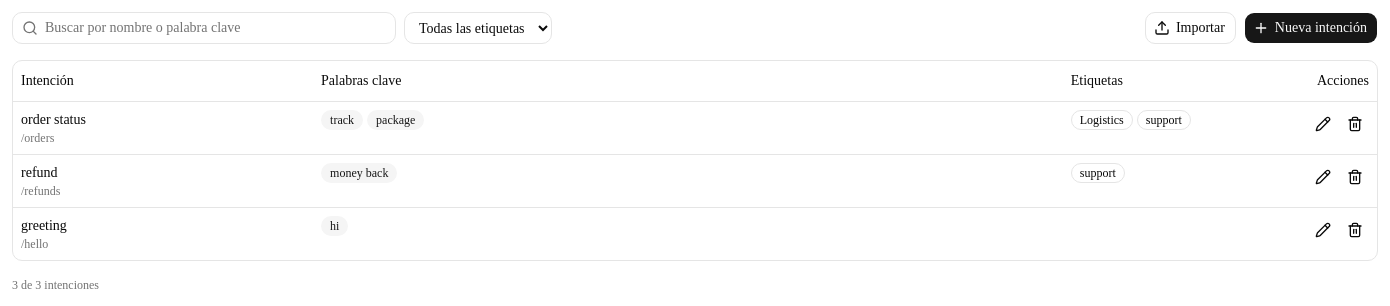
Scenario: IntentsTable › shows a no-results state when the search matches nothing
This screenshot has width=1390, height=306.
Step 1. Type "zzz" into the search field named "buscar intenciones" → (204, 28), box [12,12,396,44]
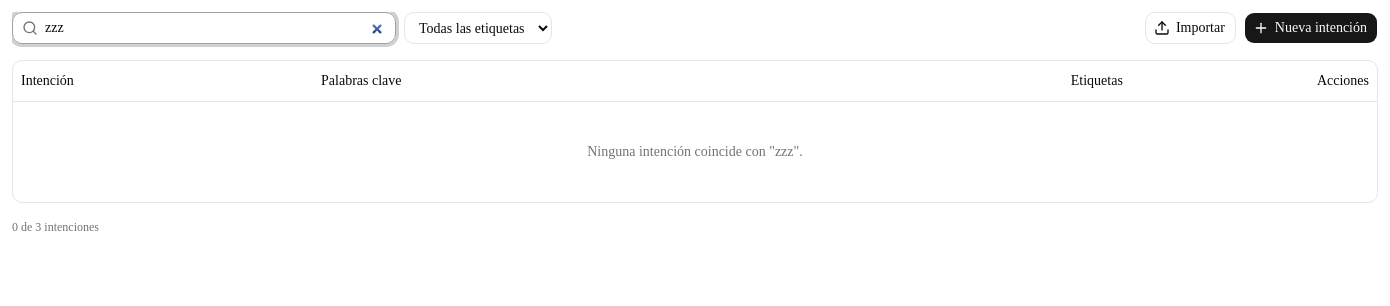
Expected: the text "Ninguna intención coincide con \"zzz\"." is shown, [587,144,803,158]
